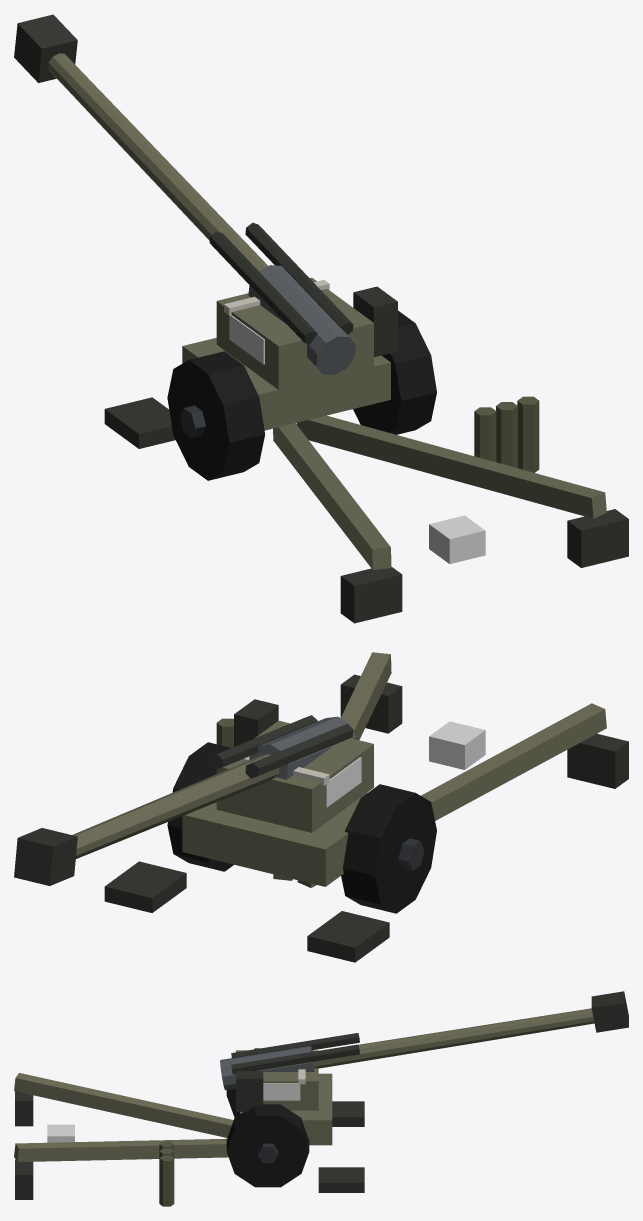
The model's file is art_howitzer_mod.glb.
The picture shows the model from 3 angles, top to bottom: view 1: azimuth 30°, elevation 25°; view 2: azimuth 150°, elevation 25°; view 3: azimuth 270°, elevation 25°; orthographic projection. The views are drawn at different scales.
Visible parts, largest first — view 1: art_howitzer_mod; view 2: art_howitzer_mod; view 3: art_howitzer_mod.
Part boxes in pixels (x1,y1,x2,y2): art_howitzer_mod: [14, 14, 628, 623]; art_howitzer_mod: [14, 652, 628, 962]; art_howitzer_mod: [14, 991, 628, 1206].
Bounding box in the file's own units: 2.48 × 1.9 × 6.68.
